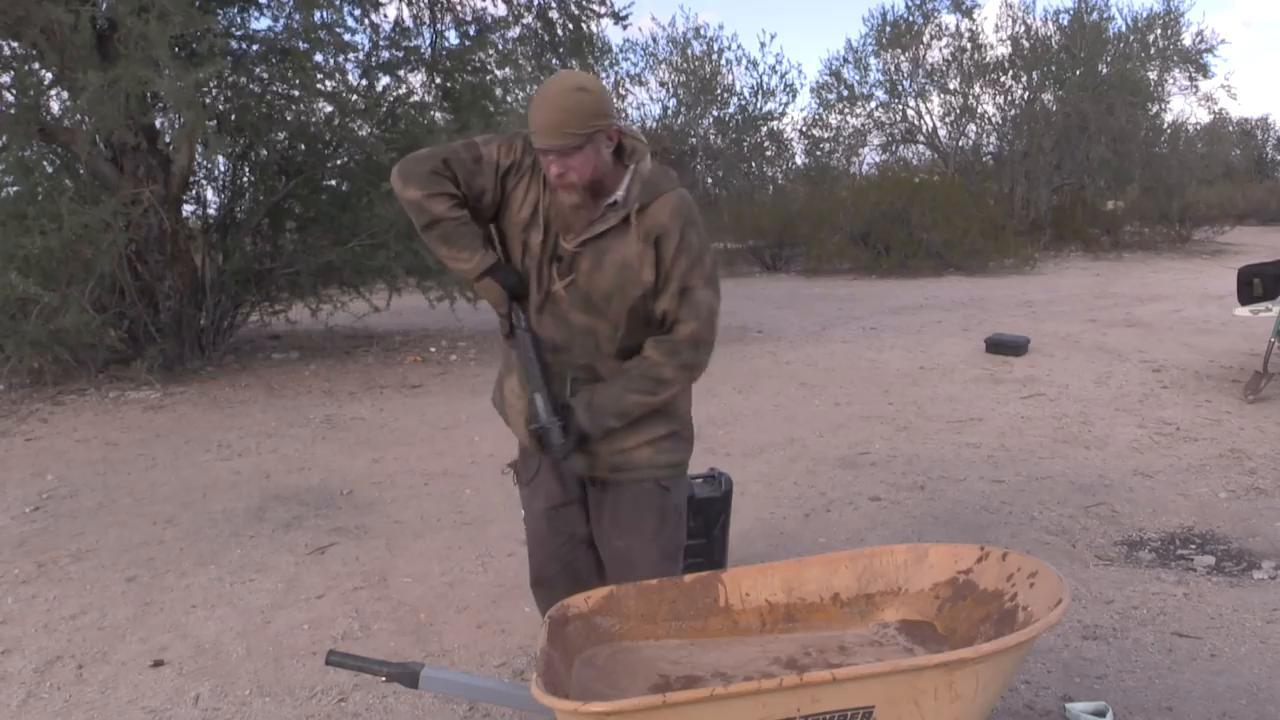AK47 Rifle: (483, 219, 576, 498)
